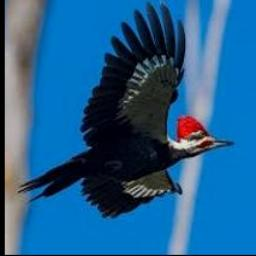Woodpecker: (17, 0, 233, 218)
